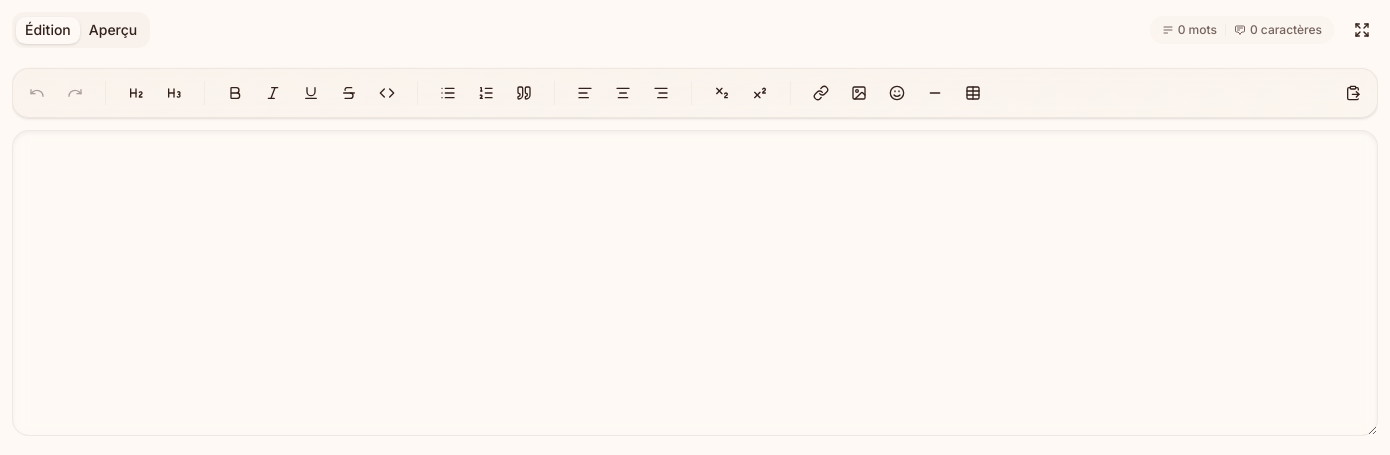
Test: ArticleContentEditor › turns the current line into a blockquote
Type "citation" into the text box. click: (695, 283)
box: [12,130,1378,436]
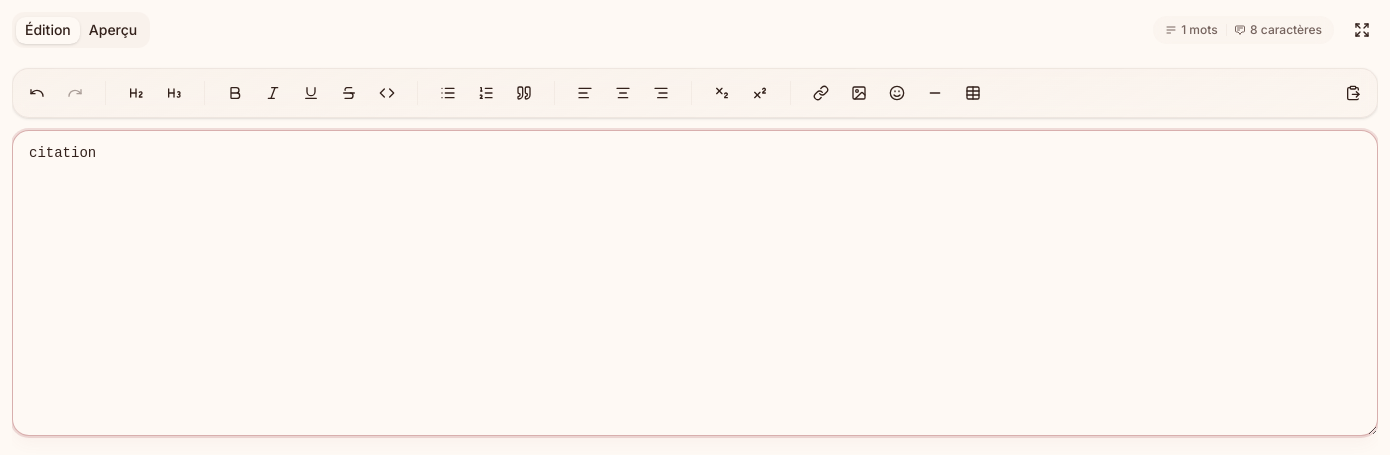
Click the button titled "Citation". click: click(524, 93)
box: [508,77,540,109]
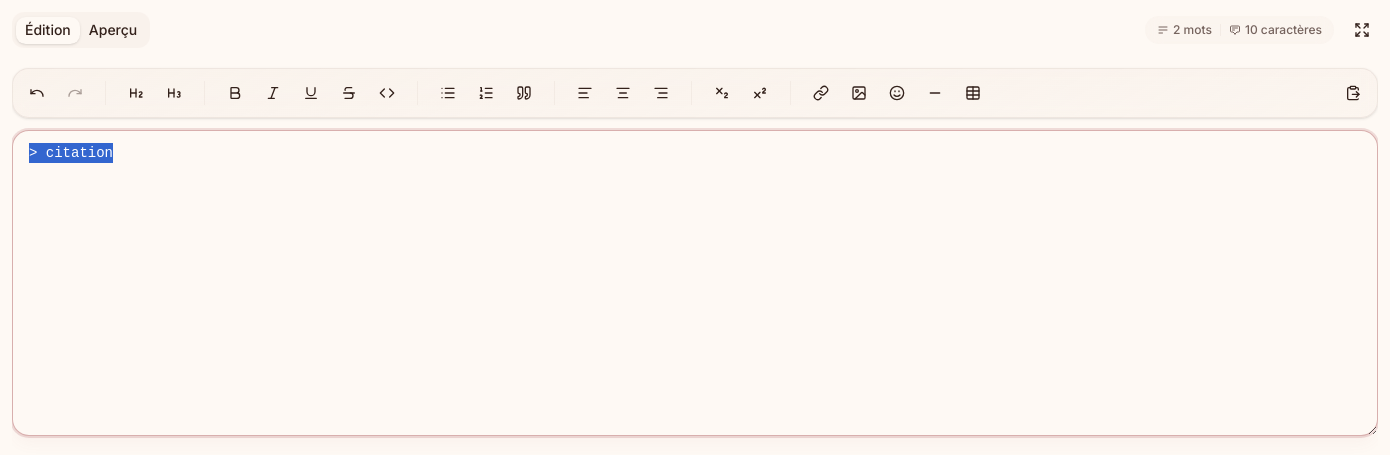
Expected: the text box holds "> citation"
